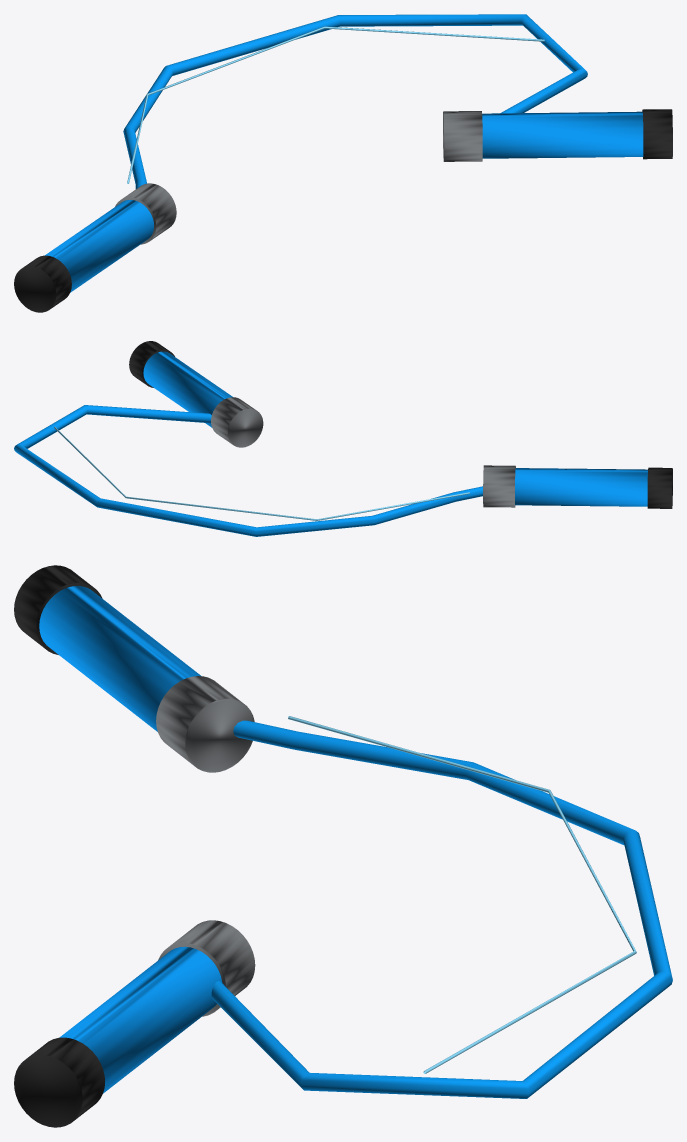
File: Springseil_3D_v2.glb
The picture shows the model from 3 angles, top to bottom: view 1: azimuth 30°, elevation 25°; view 2: azimuth 150°, elevation 25°; view 3: azimuth 270°, elevation 25°; orthographic projection. The views are drawn at different scales.
Visible parts, largest first — view 1: Springseil_3D_v2__web_blue_ergonomic_jump_rope_handles, Springseil_3D_v2__web_glossy_blue_jump_rope_cord, Springseil_3D_v2__web_black_rubber_jump_rope_grip_caps, Springseil_3D_v2__web_dark_grey_metal_jump_rope_collar_rings, Springseil_3D_v2__web_v2_extra_light_blue_specular_jump_rope; view 2: Springseil_3D_v2__web_blue_ergonomic_jump_rope_handles, Springseil_3D_v2__web_glossy_blue_jump_rope_cord, Springseil_3D_v2__web_dark_grey_metal_jump_rope_collar_rings, Springseil_3D_v2__web_black_rubber_jump_rope_grip_caps, Springseil_3D_v2__web_v2_extra_light_blue_specular_jump_rope; view 3: Springseil_3D_v2__web_blue_ergonomic_jump_rope_handles, Springseil_3D_v2__web_glossy_blue_jump_rope_cord, Springseil_3D_v2__web_dark_grey_metal_jump_rope_collar_rings, Springseil_3D_v2__web_black_rubber_jump_rope_grip_caps, Springseil_3D_v2__web_v2_extra_light_blue_specular_jump_rope.
Boxes of the visible parts, x1=… form: Springseil_3D_v2__web_blue_ergonomic_jump_rope_handles: x1=45, y1=111, x2=643, y2=292; Springseil_3D_v2__web_glossy_blue_jump_rope_cord: x1=123, y1=14, x2=587, y2=188; Springseil_3D_v2__web_black_rubber_jump_rope_grip_caps: x1=14, y1=109, x2=672, y2=312; Springseil_3D_v2__web_dark_grey_metal_jump_rope_collar_rings: x1=115, y1=111, x2=482, y2=244; Springseil_3D_v2__web_v2_extra_light_blue_specular_jump_rope: x1=127, y1=26, x2=544, y2=183; Springseil_3D_v2__web_blue_ergonomic_jump_rope_handles: x1=143, y1=351, x2=647, y2=506; Springseil_3D_v2__web_glossy_blue_jump_rope_cord: x1=14, y1=405, x2=482, y2=536; Springseil_3D_v2__web_dark_grey_metal_jump_rope_collar_rings: x1=211, y1=397, x2=515, y2=507; Springseil_3D_v2__web_black_rubber_jump_rope_grip_caps: x1=129, y1=341, x2=672, y2=508; Springseil_3D_v2__web_v2_extra_light_blue_specular_jump_rope: x1=54, y1=427, x2=469, y2=520; Springseil_3D_v2__web_blue_ergonomic_jump_rope_handles: x1=39, y1=586, x2=222, y2=1093; Springseil_3D_v2__web_glossy_blue_jump_rope_cord: x1=211, y1=720, x2=672, y2=1098; Springseil_3D_v2__web_dark_grey_metal_jump_rope_collar_rings: x1=156, y1=676, x2=255, y2=1016; Springseil_3D_v2__web_black_rubber_jump_rope_grip_caps: x1=14, y1=565, x2=104, y2=1127; Springseil_3D_v2__web_v2_extra_light_blue_specular_jump_rope: x1=288, y1=716, x2=636, y2=1073.
Size of the model in its own units: 1.67 by 0.112 by 0.9228.
